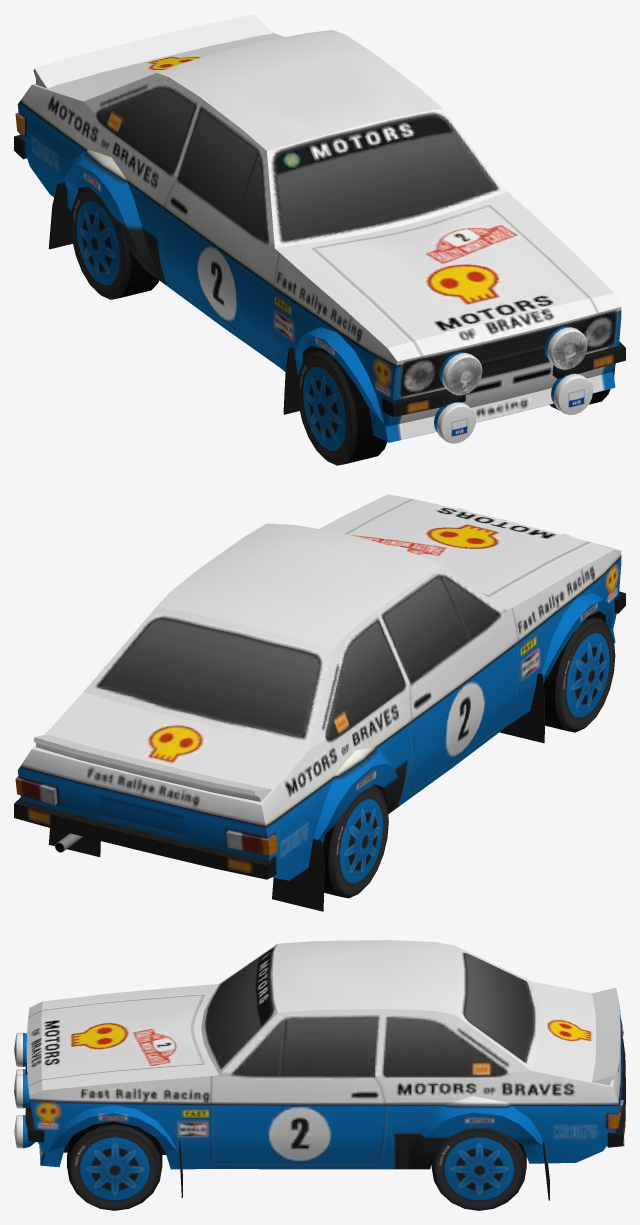
Rendered from rally-ford-escort.glb.
3 views of the same model, one above another, from view 1: azimuth 30°, elevation 25°; view 2: azimuth 150°, elevation 25°; view 3: azimuth 270°, elevation 25° (orthographic). The views are drawn at different scales.
Visible parts, largest first — view 1: Ford Escort RS1800, L_front_wheel_geo #370623.003, fanale1_geo.001, L_front_wheel_geo #370623.002; view 2: Ford Escort RS1800, L_front_wheel_geo #370623.003, L_front_wheel_geo #370623.002; view 3: Ford Escort RS1800, L_front_wheel_geo #370623, L_front_wheel_geo #370623.001, fanale1_geo.001.
Part boxes in pixels (<box>): Ford Escort RS1800: <box>14,14,625,442</box>; L_front_wheel_geo #370623.003: <box>297,349,387,465</box>; fanale1_geo.001: <box>434,326,592,443</box>; L_front_wheel_geo #370623.002: <box>70,186,158,299</box>; Ford Escort RS1800: <box>14,494,625,911</box>; L_front_wheel_geo #370623.003: <box>543,616,615,732</box>; L_front_wheel_geo #370623.002: <box>322,784,388,898</box>; Ford Escort RS1800: <box>25,940,625,1200</box>; L_front_wheel_geo #370623: <box>67,1121,162,1210</box>; L_front_wheel_geo #370623.001: <box>431,1128,526,1210</box>; fanale1_geo.001: <box>14,1032,35,1148</box>.
Size of the model in its own units: 1.75 by 1.43 by 4.16.
Materials: 6 (6 with a texture image).
